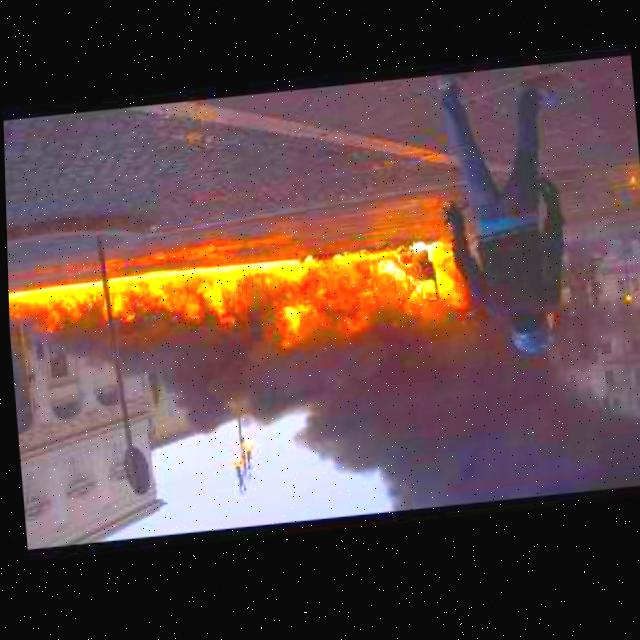Fire: (6, 245, 482, 376)
Smoke: (57, 283, 640, 548)
